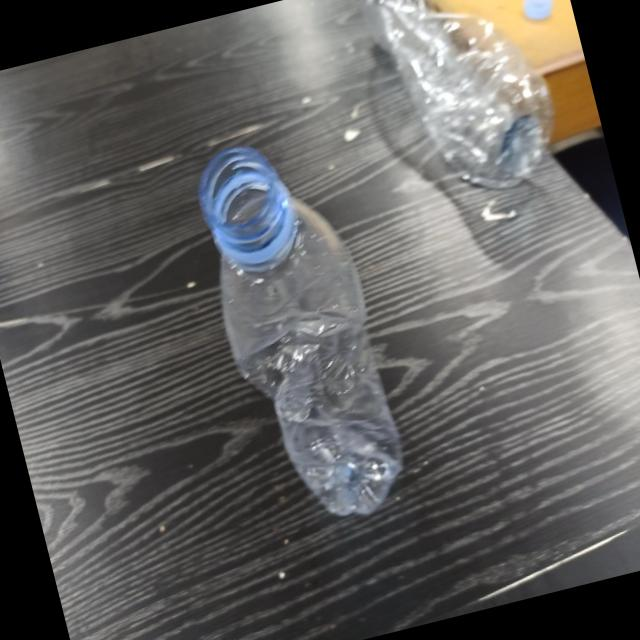BotolPlastik: (181, 122, 418, 538), (357, 0, 589, 252)
